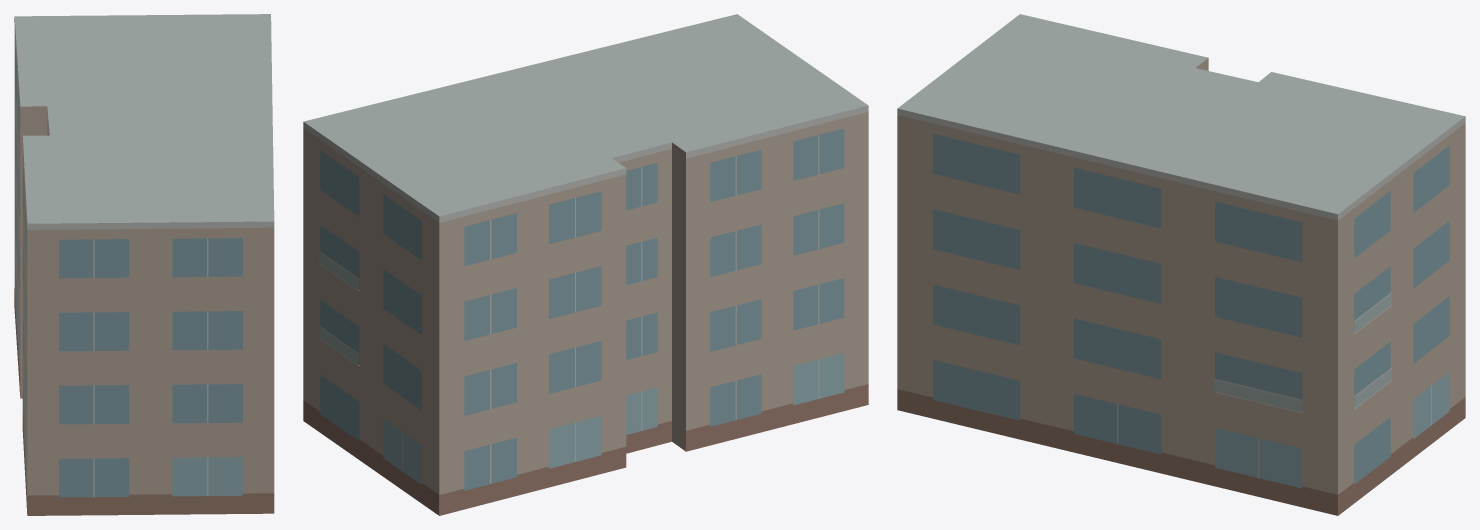
The model's file is survey-upis-32665873.glb.
3 views of the same model, side by side, from view 1: azimuth 30°, elevation 25°; view 2: azimuth 150°, elevation 25°; view 3: azimuth 270°, elevation 25° (orthographic). The views are drawn at different scales.
Visible parts, largest first — view 1: survey-upis-32665873.tmp; view 2: survey-upis-32665873.tmp; view 3: survey-upis-32665873.tmp.
Boxes of the visible parts, x1,y1,x2,y2 form: survey-upis-32665873.tmp: (14,14,274,515); survey-upis-32665873.tmp: (303,14,868,515); survey-upis-32665873.tmp: (897,14,1465,515).
Size of the model in its own units: 16.39 by 11.5 by 19.65.
